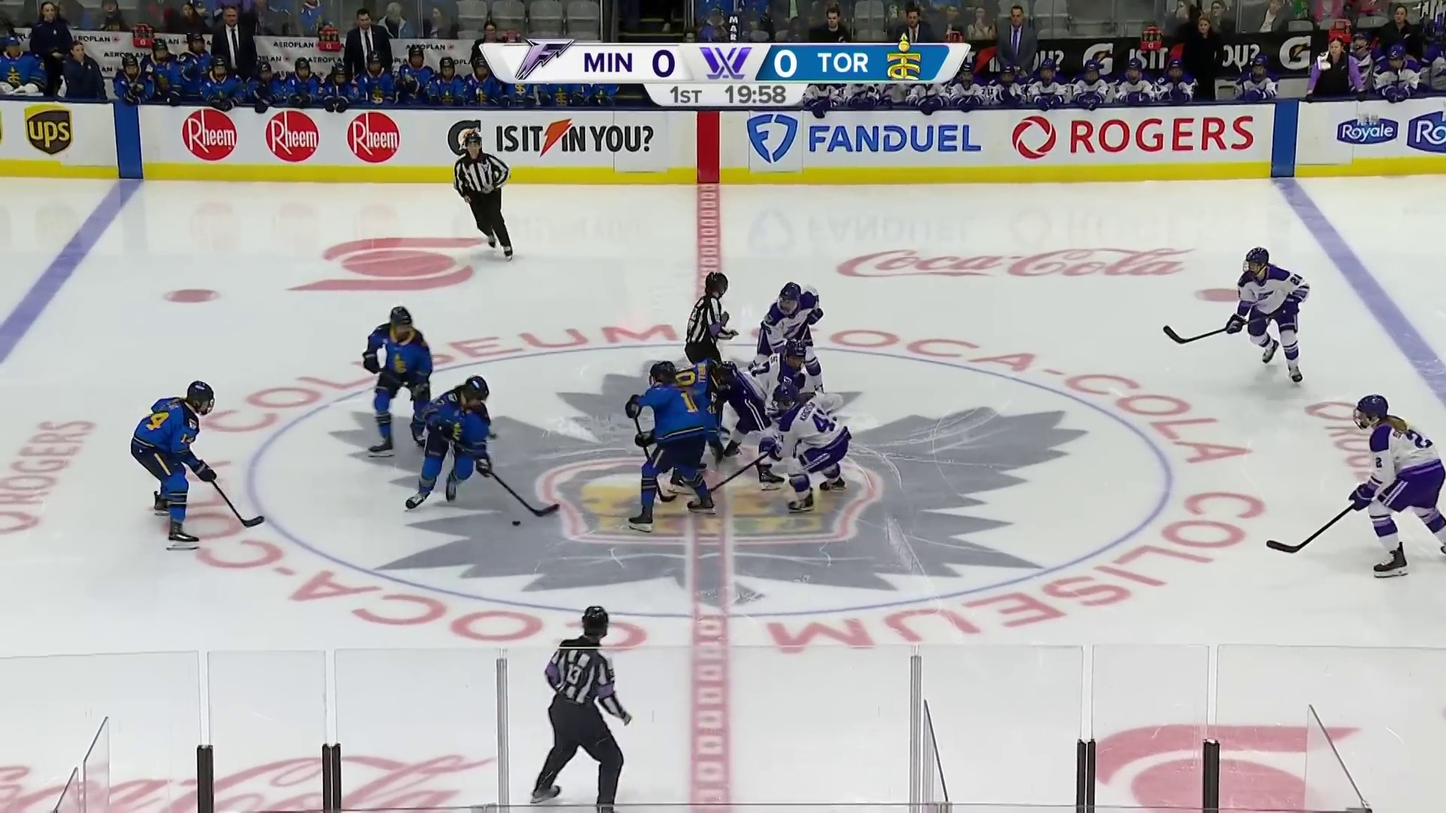player: (530, 602, 633, 808), (1347, 395, 1445, 581), (625, 360, 714, 531), (134, 381, 216, 546), (1226, 242, 1313, 385), (653, 358, 739, 494), (726, 344, 803, 491), (404, 378, 489, 507), (364, 305, 433, 456), (771, 382, 849, 511), (750, 280, 826, 392)
puck: (512, 521, 520, 527)
referee: (684, 273, 737, 428), (454, 129, 510, 257)
